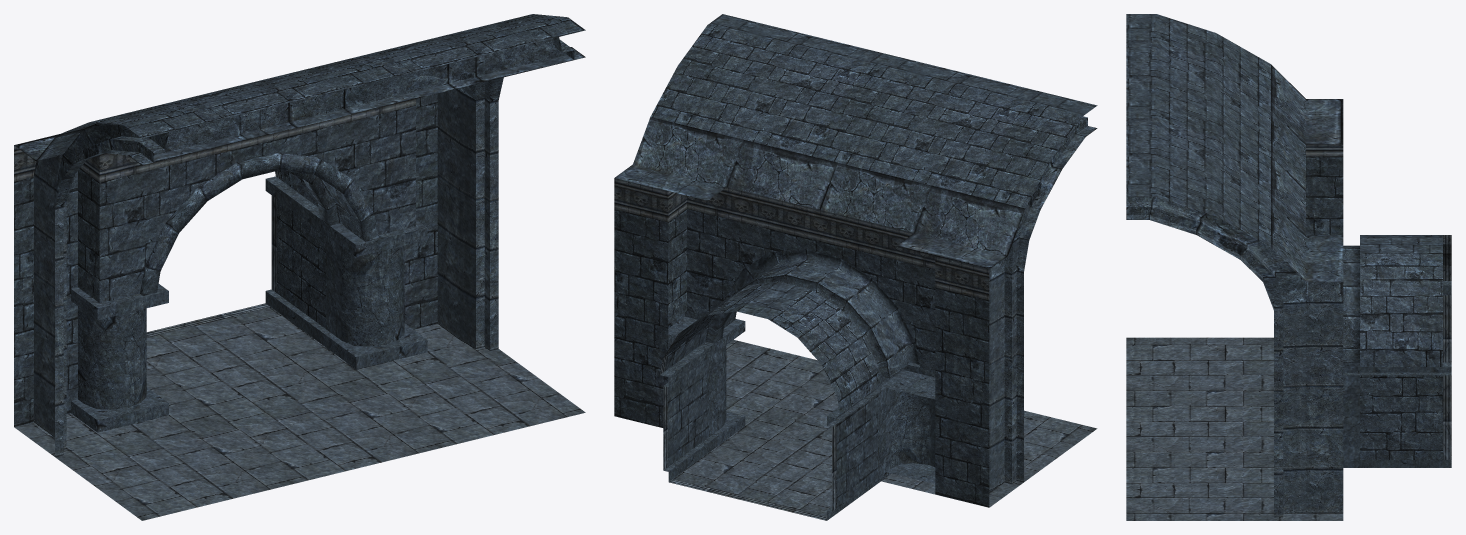
File: wall_5.FBX
The picture shows the model from 3 angles, left to right: view 1: azimuth 30°, elevation 25°; view 2: azimuth 150°, elevation 25°; view 3: azimuth 270°, elevation 25°; orthographic projection. The views are drawn at different scales.
Visible parts, largest first — view 1: wall_door 2; view 2: wall_door 2; view 3: wall_door 2.
Boxes of the visible parts, x1,y1,x2,y2 form: wall_door 2: (14,14,585,520); wall_door 2: (614,14,1097,520); wall_door 2: (1126,14,1451,520).
Bounding box in the file's own units: 91.85 × 75.6 × 68.89.
